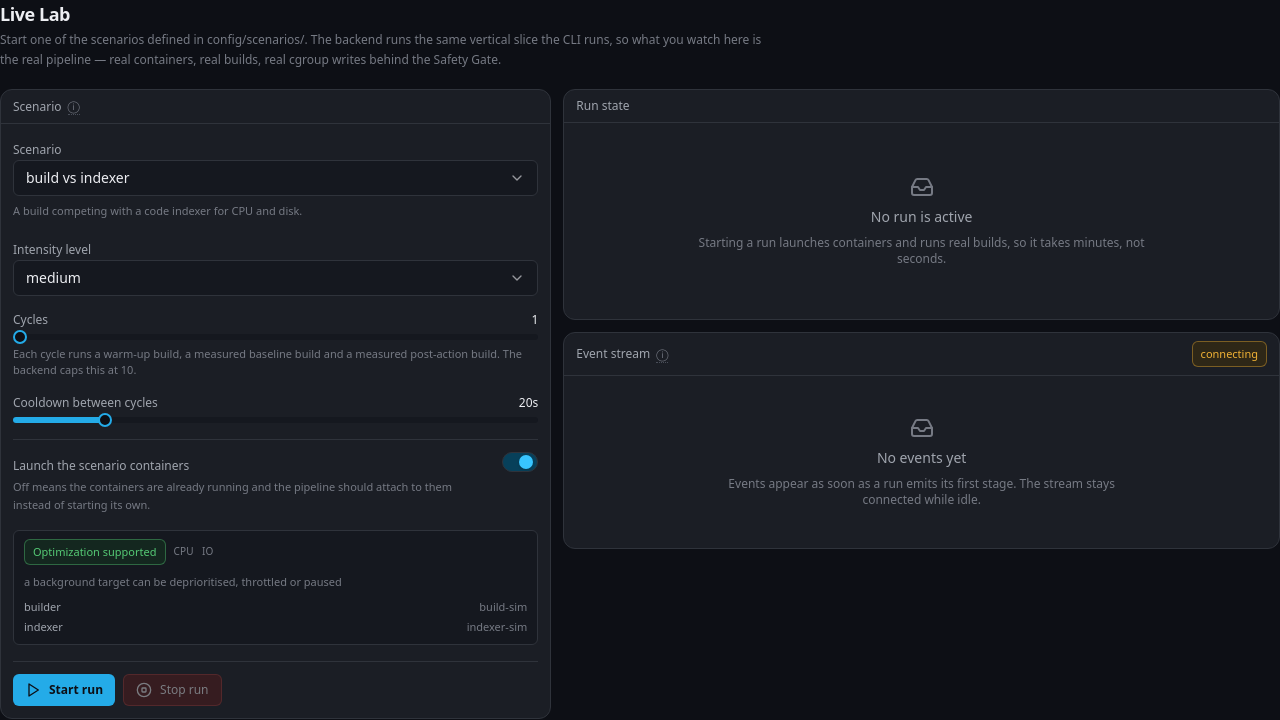
Scenario: Live Lab › cancelling the confirmation posts nothing
Expected: the text "A build competing with a code indexer for CPU and disk." is shown, [13, 203, 302, 218]
Click the button "Start run" at coordinates (64, 690), box [13, 674, 115, 706]
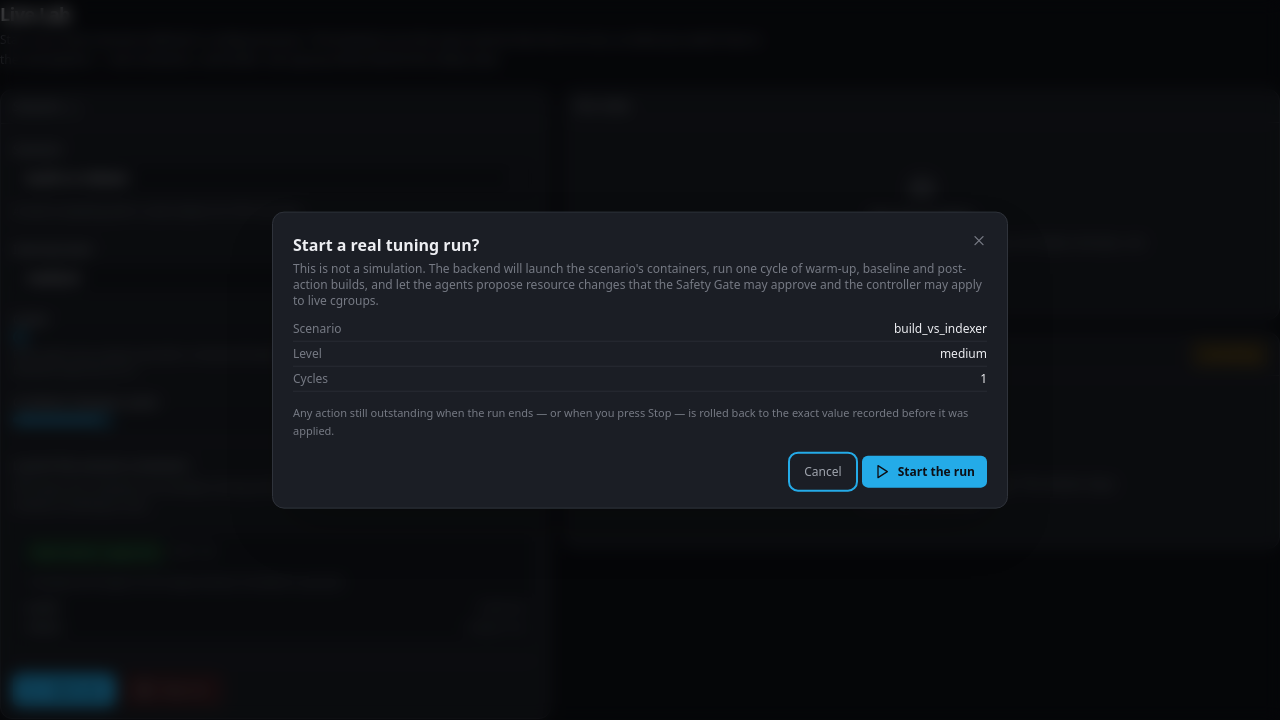
Click the button "Cancel" at coordinates (823, 471), box [792, 455, 854, 487]
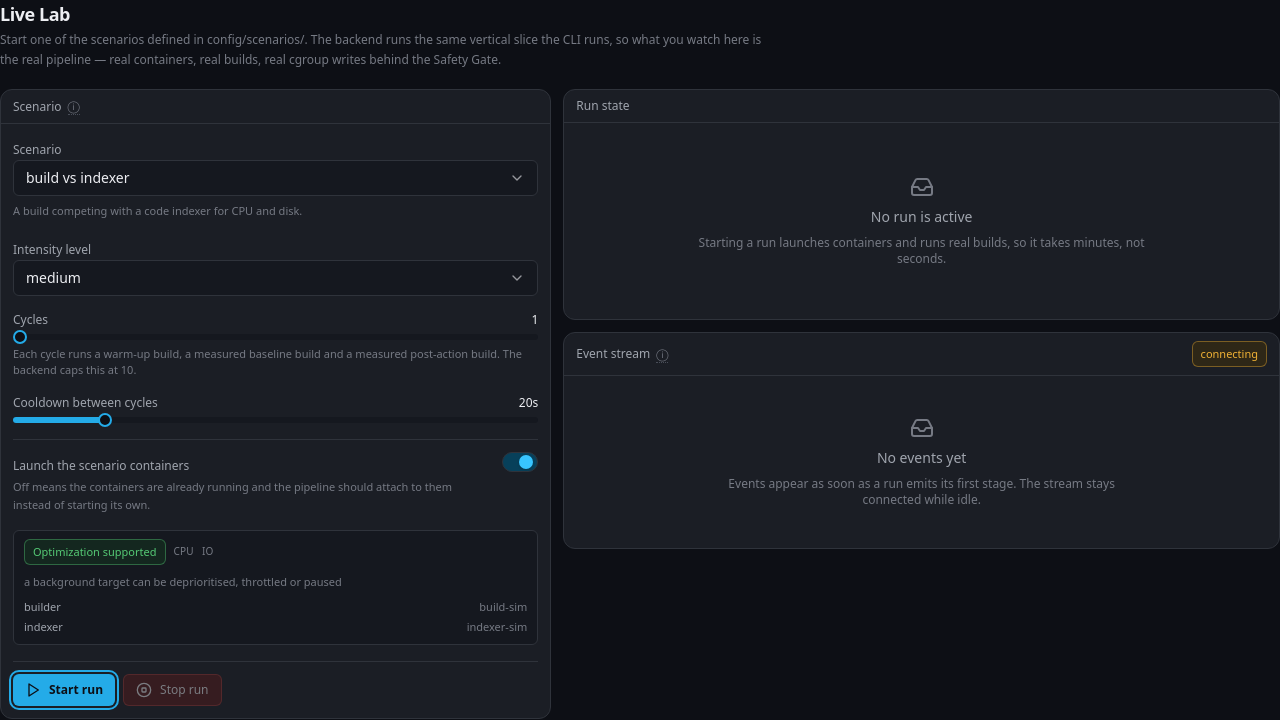
Now the dialog is gone
